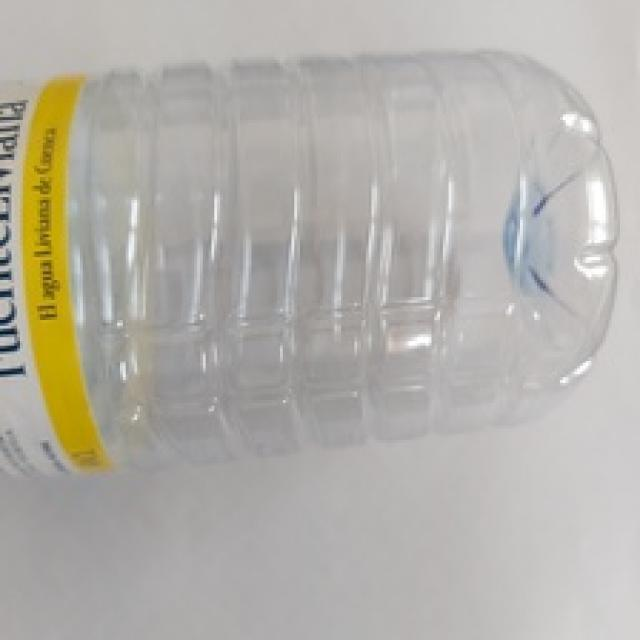Plastic: (0, 45, 623, 483)
